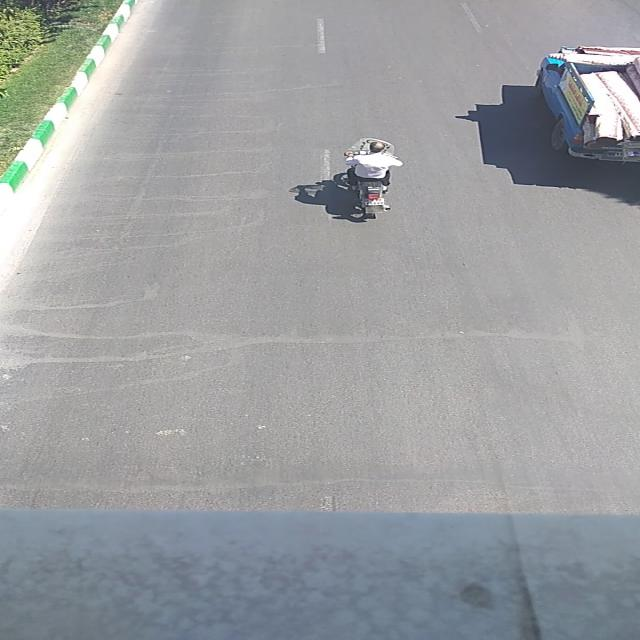car: (538, 44, 640, 161)
motor: (337, 136, 406, 217)
